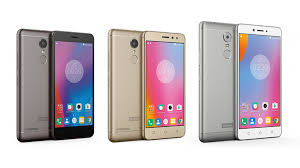lenovo: (49, 27, 98, 143), (139, 26, 188, 142), (235, 23, 284, 139)
